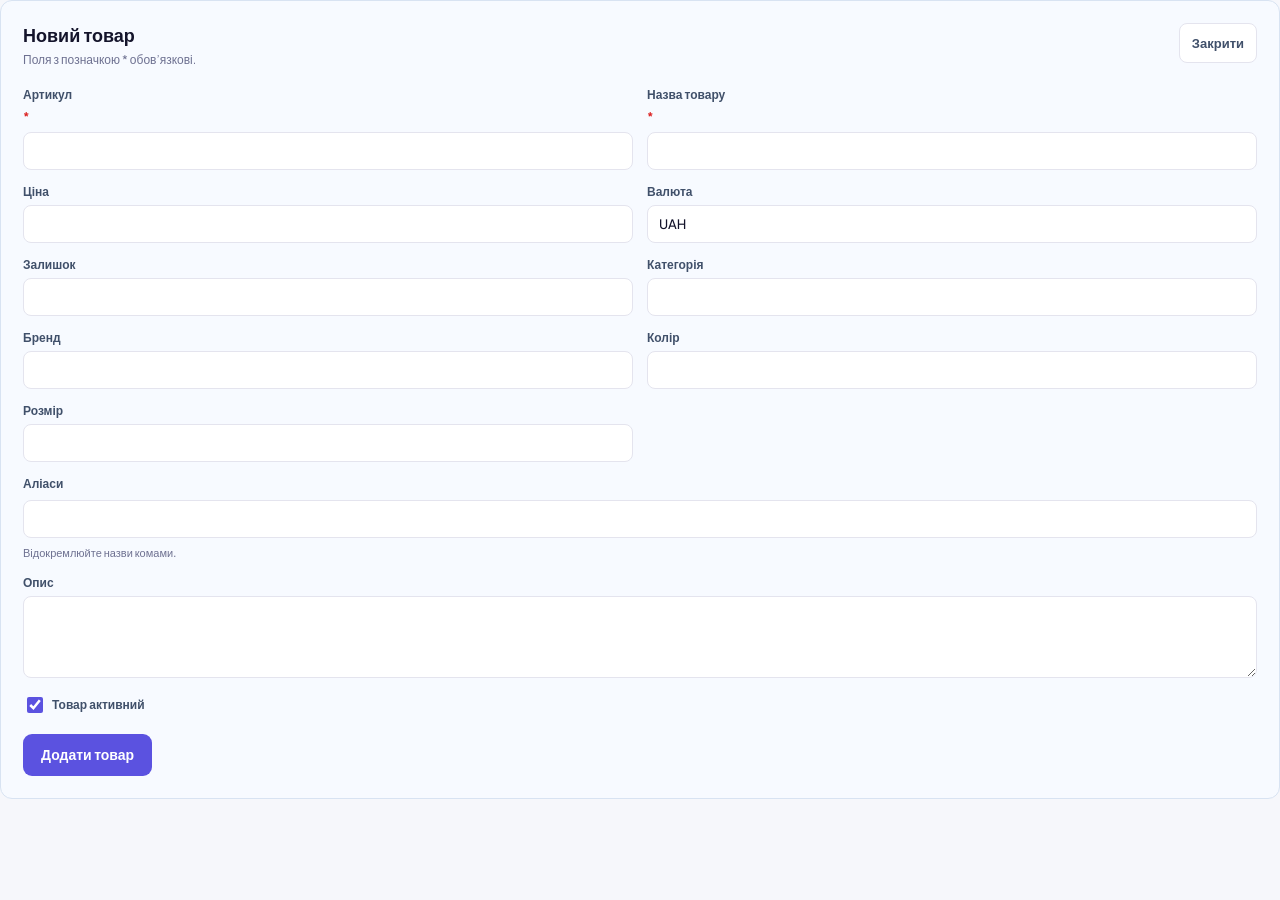
ProductEditor › shows required SKU and name errors below the fields and focuses SKU without saving
What coordinates should you click on to do the following:
click the button "Додати товар"
I would click on:
 (88, 754)
Its box is 23,734 -> 152,776.
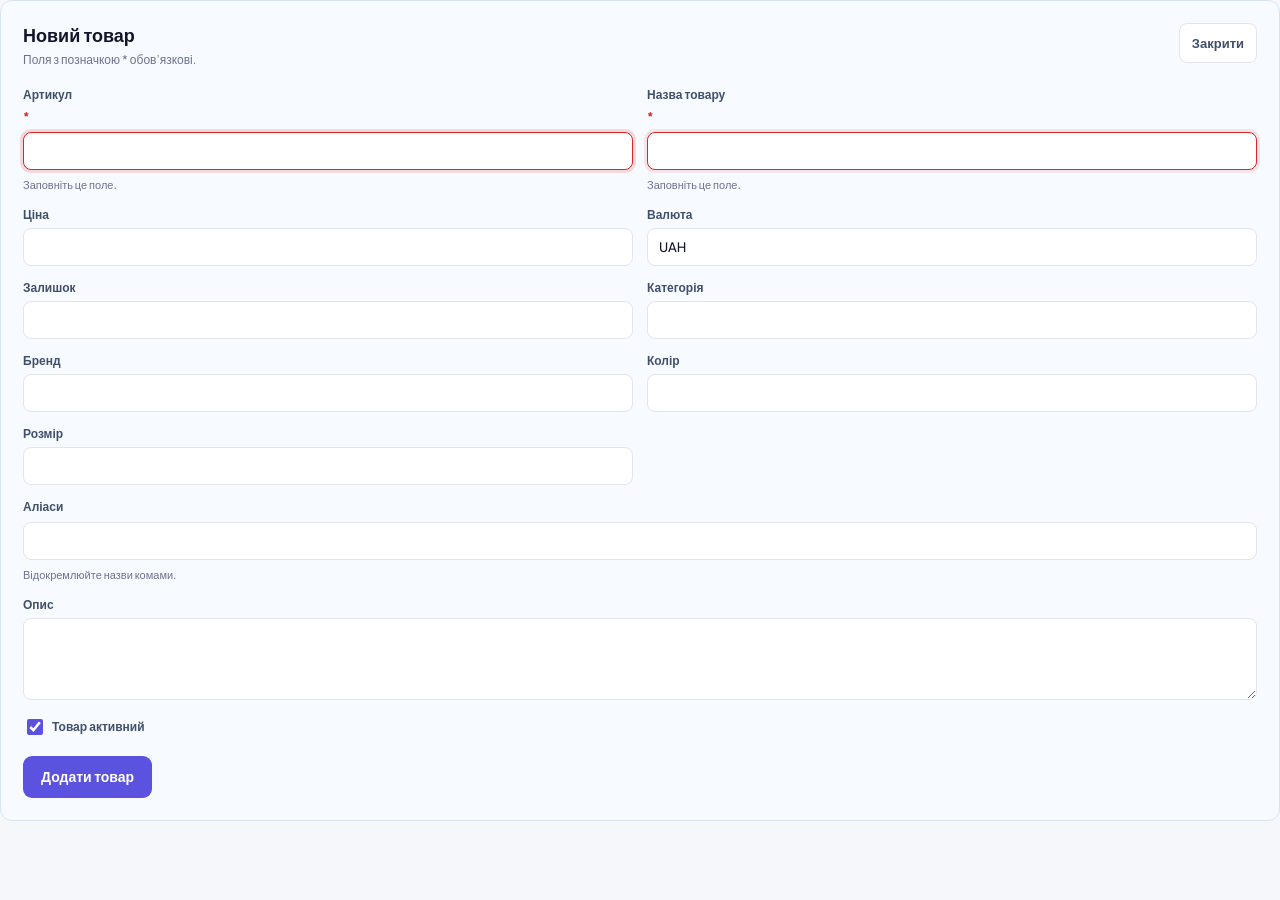
Check: the text "Заповніть це поле." is shown 2 times, box 23,178 -> 117,191; 647,178 -> 741,191
